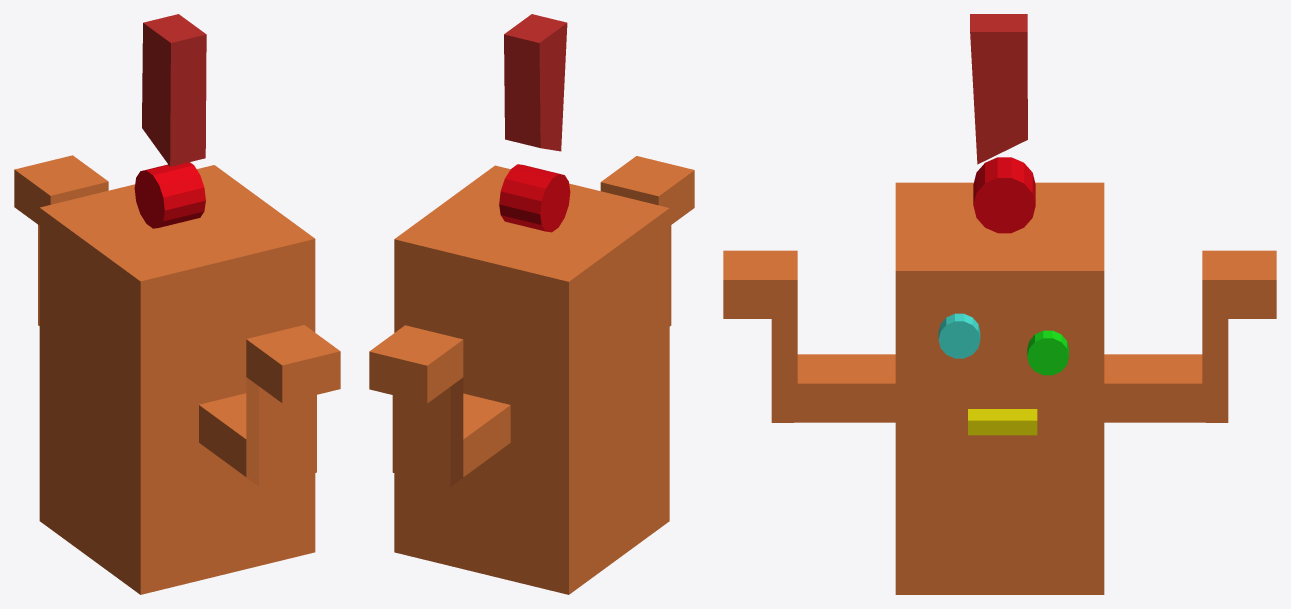
The model's file is robot.fbx.
The picture shows the model from 3 angles, left to right: view 1: azimuth 30°, elevation 25°; view 2: azimuth 150°, elevation 25°; view 3: azimuth 270°, elevation 25°; orthographic projection. The views are drawn at different scales.
Visible parts, largest first — view 1: Cube, Cylinder.003, Cylinder.002; view 2: Cube, Cylinder.003, Cylinder.002; view 3: Cube, Cylinder.003, Cylinder.002, Cube.001, Cylinder, Cylinder.001.
Part boxes in pixels (x1,y1,x2,y2): Cube: [14, 155, 340, 594]; Cylinder.003: [142, 14, 206, 166]; Cylinder.002: [134, 162, 205, 228]; Cube: [369, 156, 694, 594]; Cylinder.003: [504, 14, 567, 151]; Cylinder.002: [499, 164, 570, 232]; Cube: [723, 182, 1276, 594]; Cylinder.003: [970, 14, 1027, 164]; Cylinder.002: [973, 157, 1035, 233]; Cube.001: [968, 409, 1037, 435]; Cylinder: [938, 313, 980, 358]; Cylinder.001: [1027, 330, 1068, 375].
Size of the model in its own units: 226 by 557 by 530.
